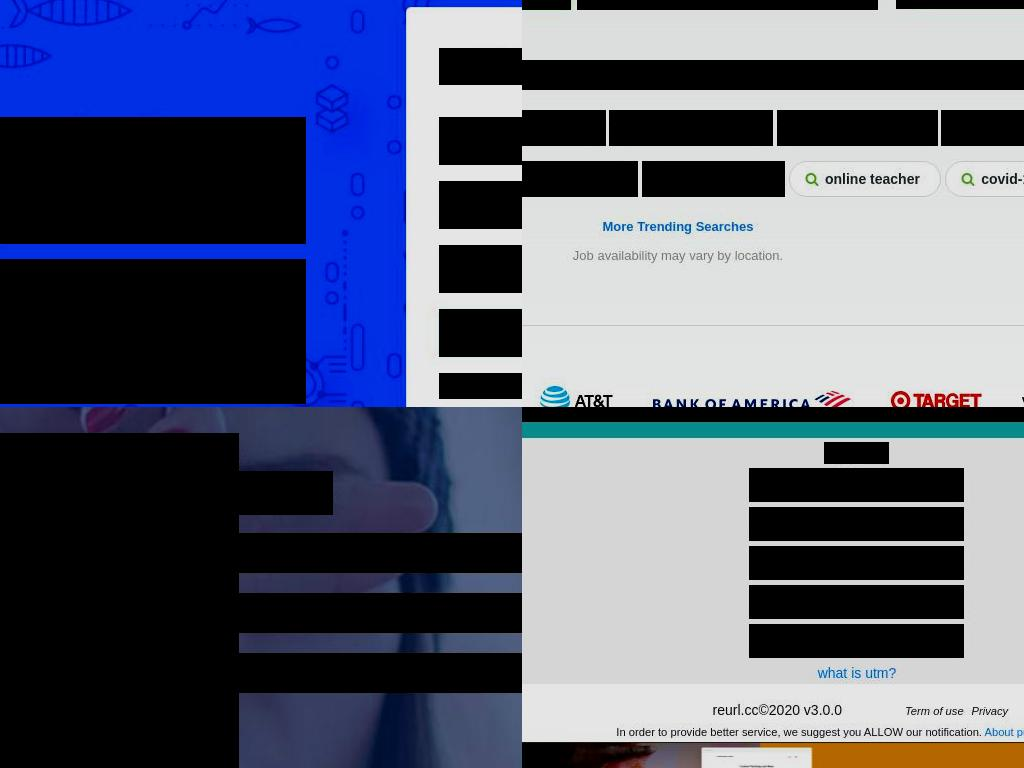button: (522, 217, 1024, 236), (609, 110, 773, 146), (777, 110, 938, 146), (789, 161, 941, 197), (642, 161, 785, 197), (522, 161, 638, 197), (439, 309, 522, 357), (522, 110, 606, 146), (941, 110, 1024, 146), (945, 161, 1024, 197), (905, 700, 964, 721), (971, 700, 1009, 721)
field: (0, 653, 522, 693), (93, 533, 522, 573), (93, 593, 522, 633), (522, 407, 1024, 422), (749, 468, 964, 502), (749, 507, 964, 541), (749, 546, 964, 580), (749, 585, 964, 619), (749, 624, 964, 658), (439, 117, 522, 165), (439, 181, 522, 229), (439, 245, 522, 293), (577, 0, 878, 10)
heading: (0, 433, 239, 768), (0, 117, 306, 244), (522, 60, 1024, 90), (0, 471, 333, 515), (439, 48, 522, 85)
image: (652, 391, 851, 407), (540, 386, 613, 407), (890, 391, 983, 407)
link: (27, 736, 128, 753)
text: (0, 259, 306, 404), (616, 726, 985, 738), (572, 248, 783, 263), (439, 373, 522, 399), (712, 702, 842, 718), (824, 442, 889, 464), (817, 665, 896, 681), (905, 705, 964, 717), (984, 726, 1024, 738), (0, 736, 27, 753), (971, 705, 1009, 717)
